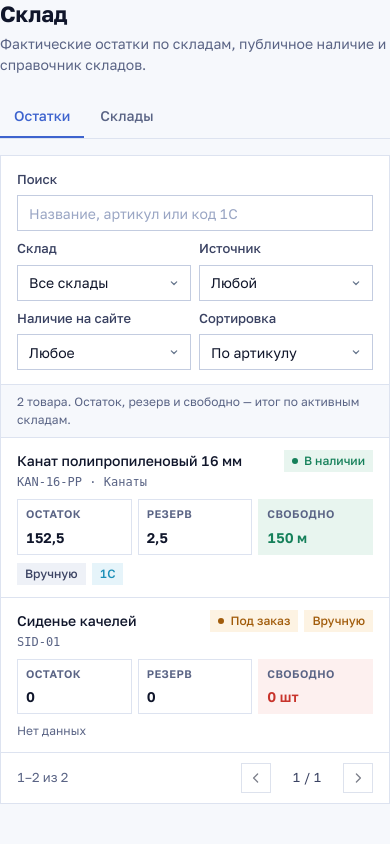
Test case: список остатков › мобильные карточки: три показателя и наличие; касание открывает панель
Expected: the text "KAN-16-PP · Канаты" is shown, top-left (17, 475), bottom-right (147, 489)
Expected: the text "152,5" is shown, top-left (26, 529), bottom-right (64, 546)
Click the text "Остаток" below "KAN-16-PP".
click(54, 514)  # box top-left (26, 507), bottom-right (81, 520)
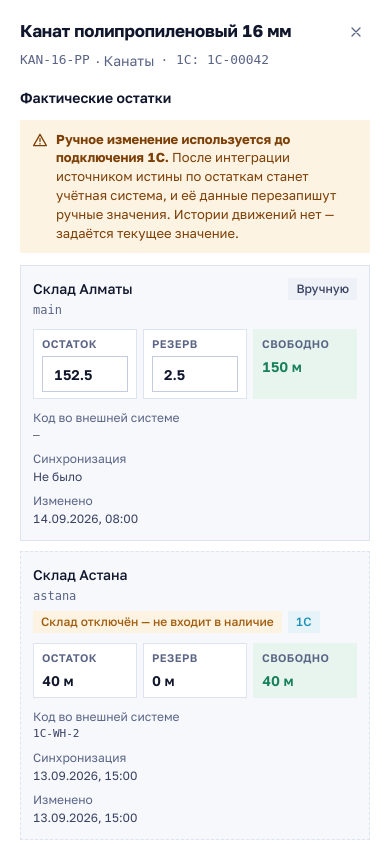
Expected: the dialog "Канат полипропиленовый 16 мм" is shown
